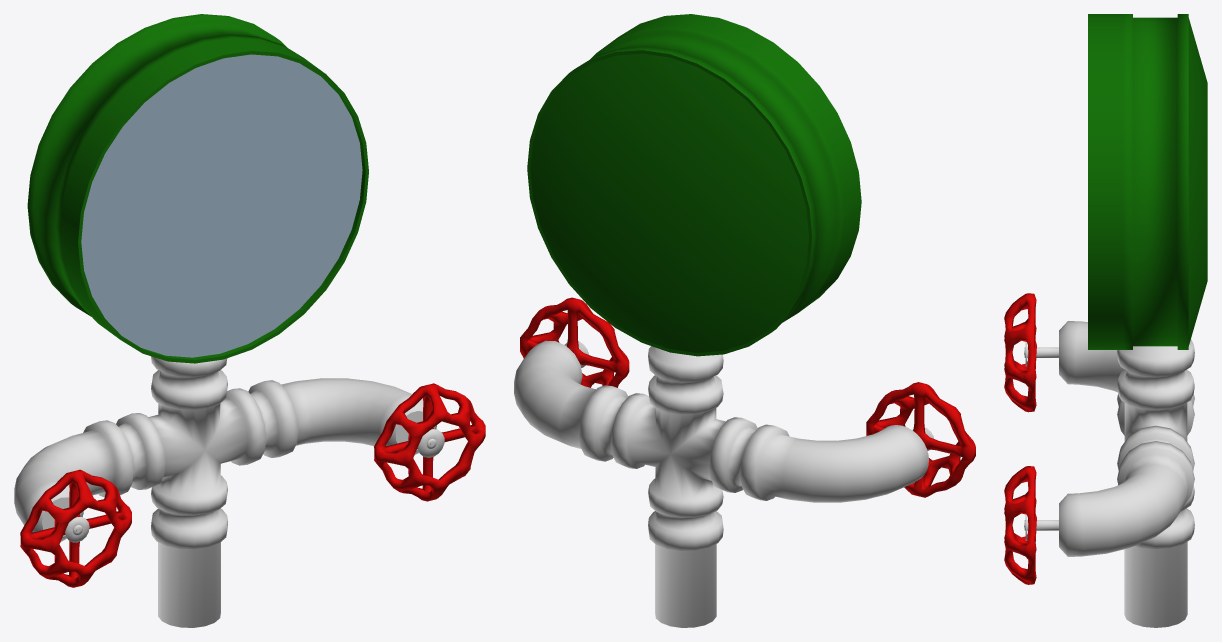
The model's file is pressureGauge.fbx.
3 renders of one model, left to right at view 1: azimuth 30°, elevation 25°; view 2: azimuth 150°, elevation 25°; view 3: azimuth 270°, elevation 25°, orthographic. The views are drawn at different scales.
Visible parts, largest first — view 1: gauge; view 2: gauge; view 3: gauge.
Part boxes in pixels (x1,y1,x2,y2): gauge: (14, 14, 485, 627); gauge: (514, 14, 975, 627); gauge: (1004, 14, 1207, 627).
Bounding box in the file's own units: 60.79 × 73.29 × 23.12.
